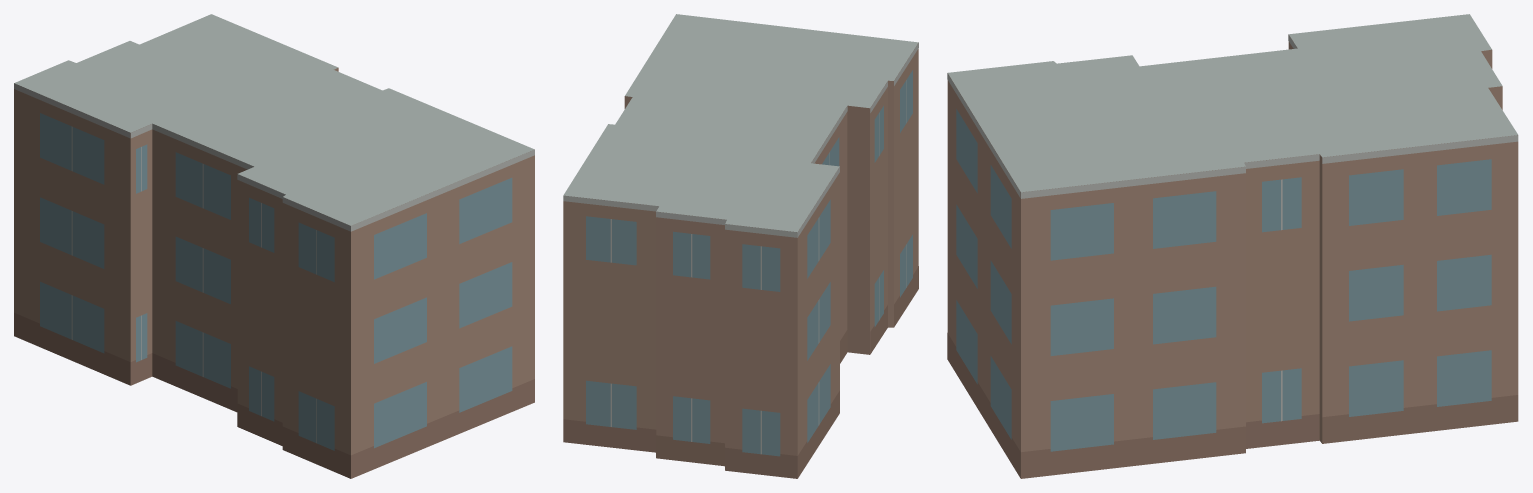
Rendered from survey-upis-32525806.glb.
3 views of the same model, side by side, from view 1: azimuth 30°, elevation 25°; view 2: azimuth 150°, elevation 25°; view 3: azimuth 270°, elevation 25° (orthographic). The views are drawn at different scales.
Parts seen in each view (by area): view 1: survey-upis-32525806.tmp; view 2: survey-upis-32525806.tmp; view 3: survey-upis-32525806.tmp.
Boxes of the visible parts, x1,y1,x2,y2 form: survey-upis-32525806.tmp: (14, 14, 534, 478); survey-upis-32525806.tmp: (563, 14, 918, 478); survey-upis-32525806.tmp: (947, 14, 1518, 478).
Bounding box in the file's own units: 14.16 × 10.6 × 19.15.
